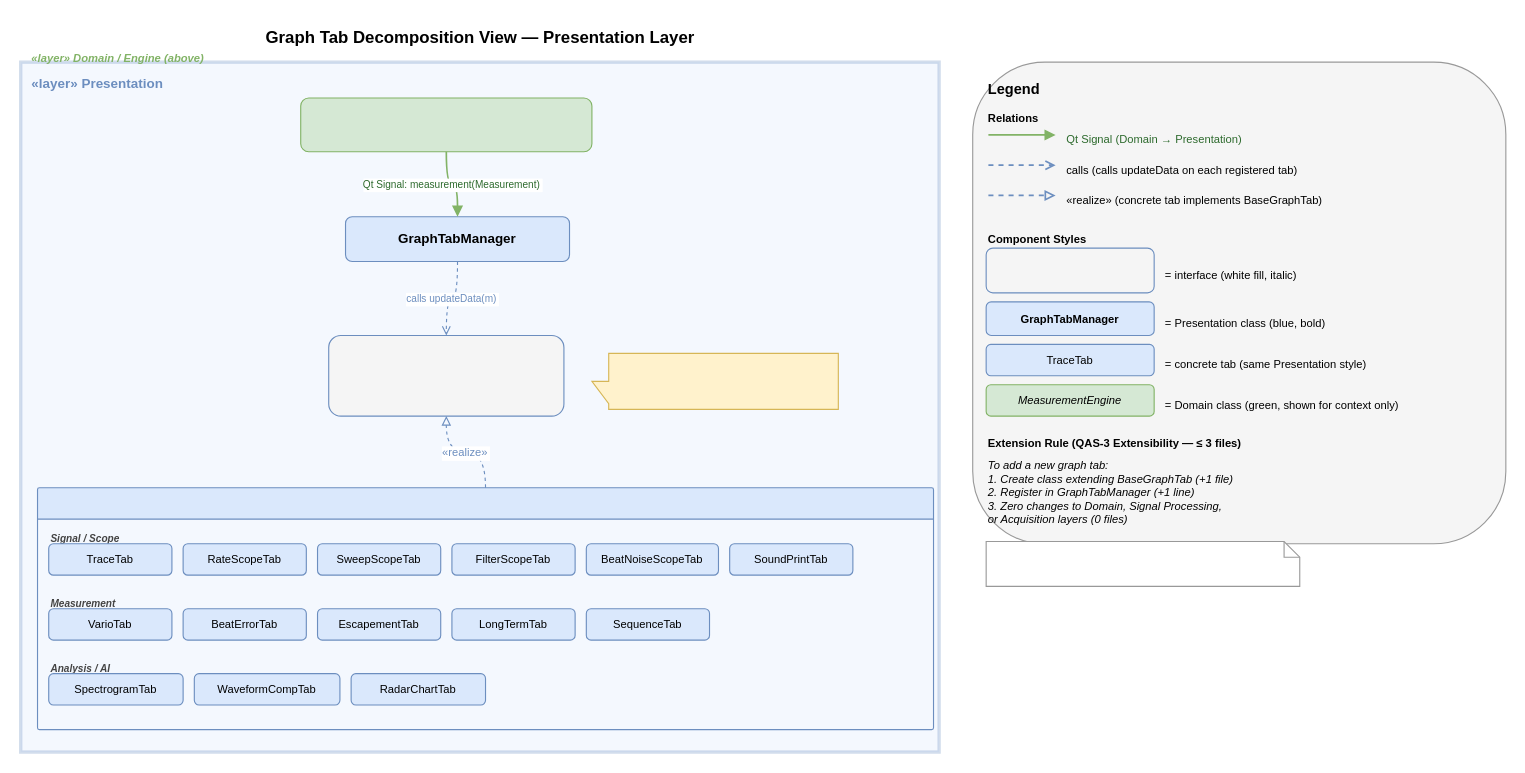
Image size: 1525x773. Some labels were removed from this diagram. Each missing label, with the box of its shape:
Concrete Graph Tabs (14 classes — all implement BaseGraphTab): (36, 487, 934, 730)
isVisible() guard [ADR-002] skip replot() when tab not visible: (591, 352, 838, 409)
MeasurementEngine (Domain — emits Measurement): (300, 97, 592, 152)
Notation: UML Source: TimeGrapher codebase (Qt / C++) · 2026-06-22: (985, 540, 1300, 586)
«interface» BaseGraphTab: (985, 247, 1154, 293)
«interface» BaseGraphTab + updateData(Measurement) + showEvent(): (328, 334, 564, 416)
